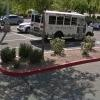Bus: (25, 5, 88, 48)
